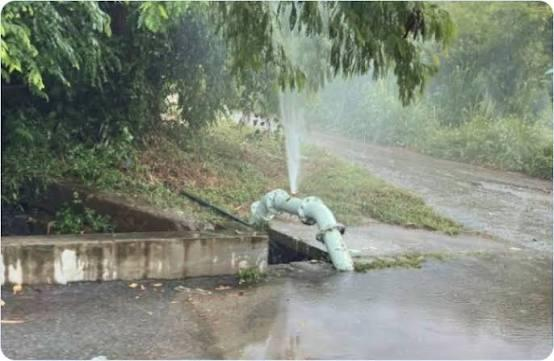pipe burst: (277, 4, 306, 197)
